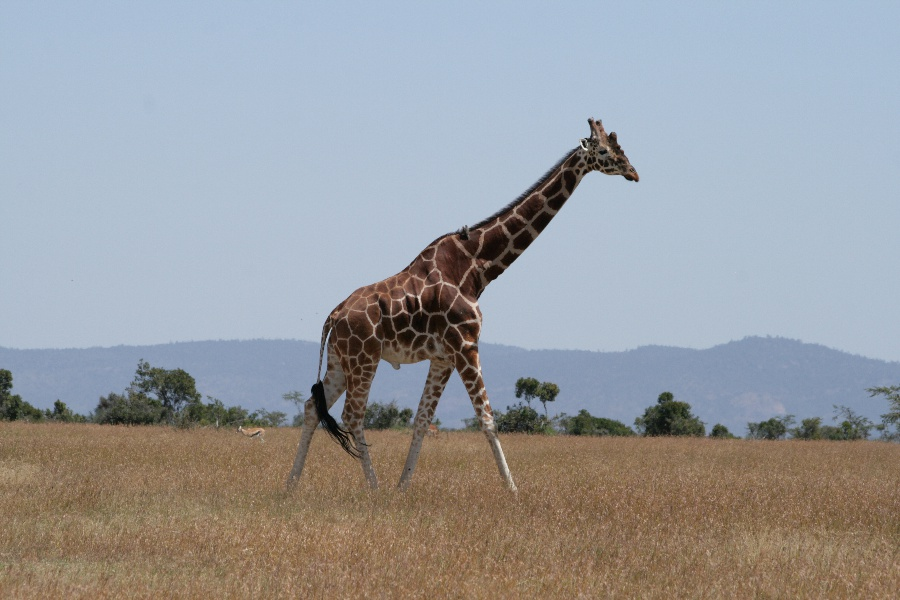giraffe: (265, 109, 645, 511)
